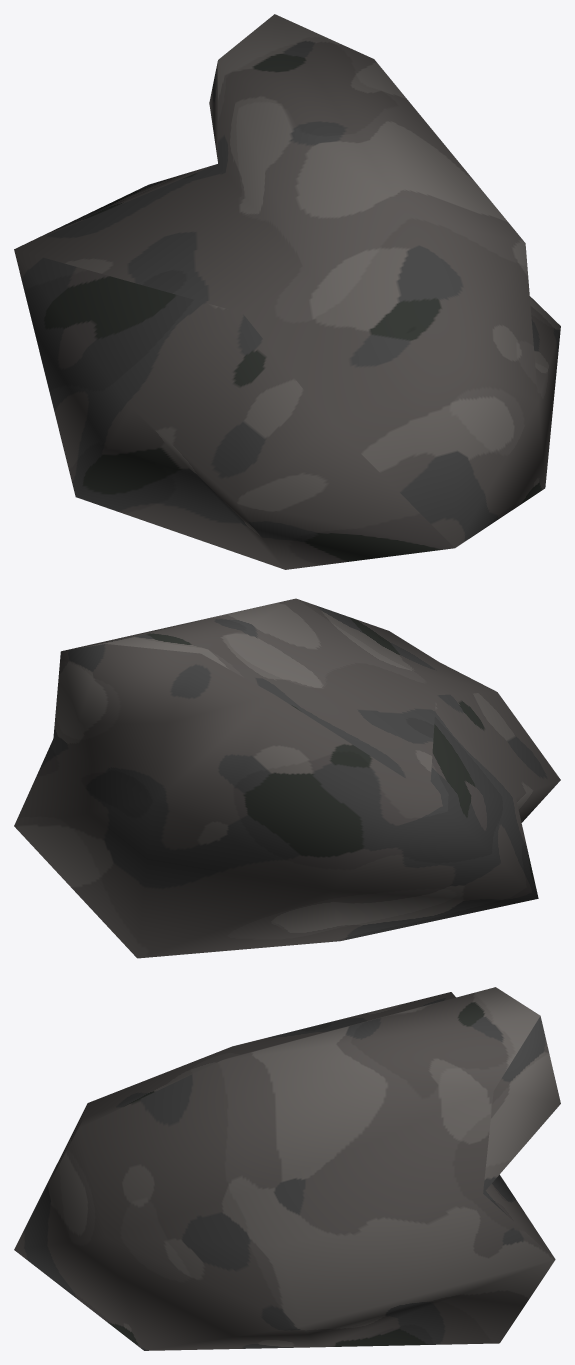
The model's file is Vol Rock 1 X 1 13_preview_3DS_simplified.glb.
3 renders of one model, top to bottom at view 1: azimuth 30°, elevation 25°; view 2: azimuth 150°, elevation 25°; view 3: azimuth 270°, elevation 25°, orthographic. The views are drawn at different scales.
Visible parts, largest first — view 1: Marine Park Empire model; view 2: Marine Park Empire model; view 3: Marine Park Empire model.
Boxes of the visible parts, box(x1,y1,x2,y2) form: Marine Park Empire model: box(14, 14, 560, 569); Marine Park Empire model: box(14, 598, 560, 958); Marine Park Empire model: box(14, 987, 560, 1350).
Size of the model in its own units: 27.49 by 19.55 by 28.25.
1 material, 1 textured.
